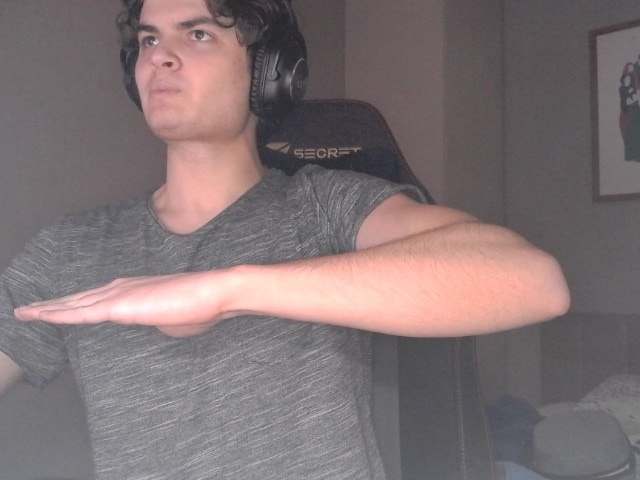space: (10, 218, 576, 353)
